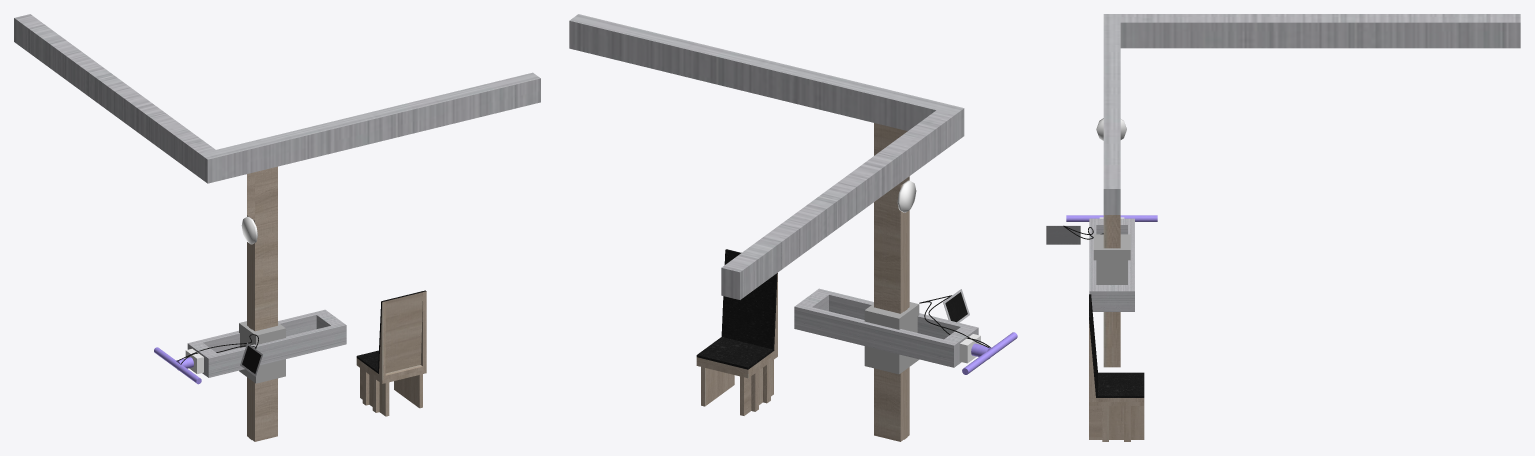
The model's file is Strength_equipment.glb.
The picture shows the model from 3 angles, left to right: view 1: azimuth 30°, elevation 25°; view 2: azimuth 150°, elevation 25°; view 3: azimuth 270°, elevation 25°; orthographic projection. The views are drawn at different scales.
Visible parts, largest first — view 1: 默认值, 默认; view 2: 默认值, 默认, 图层 03, 图层 02; view 3: 默认值, 默认.
Boxes of the visible parts, box(x1,y1,x2,y2) form: 默认值: box(14, 14, 540, 441); 默认: box(178, 216, 426, 416); 默认值: box(569, 14, 991, 441); 默认: box(696, 180, 990, 415); 图层 03: box(904, 212, 907, 439); 图层 02: box(962, 332, 1017, 374); 默认值: box(1046, 14, 1520, 367); 默认: box(1063, 118, 1144, 441).
Size of the model in its own units: 2.32 by 1.8 by 2.45.
7 materials, 5 textured.
